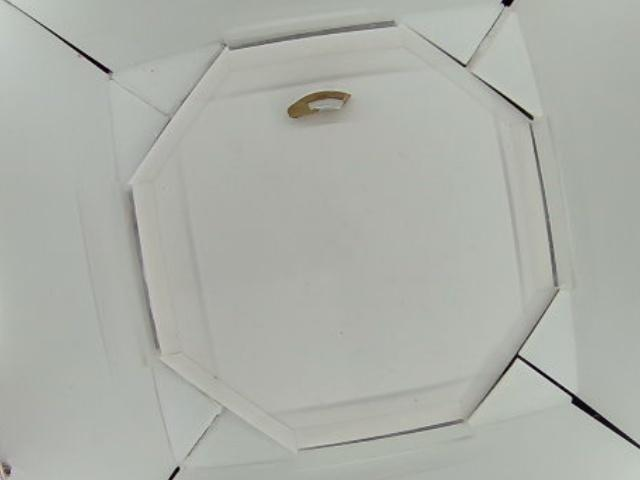China: (284, 88, 349, 126)
